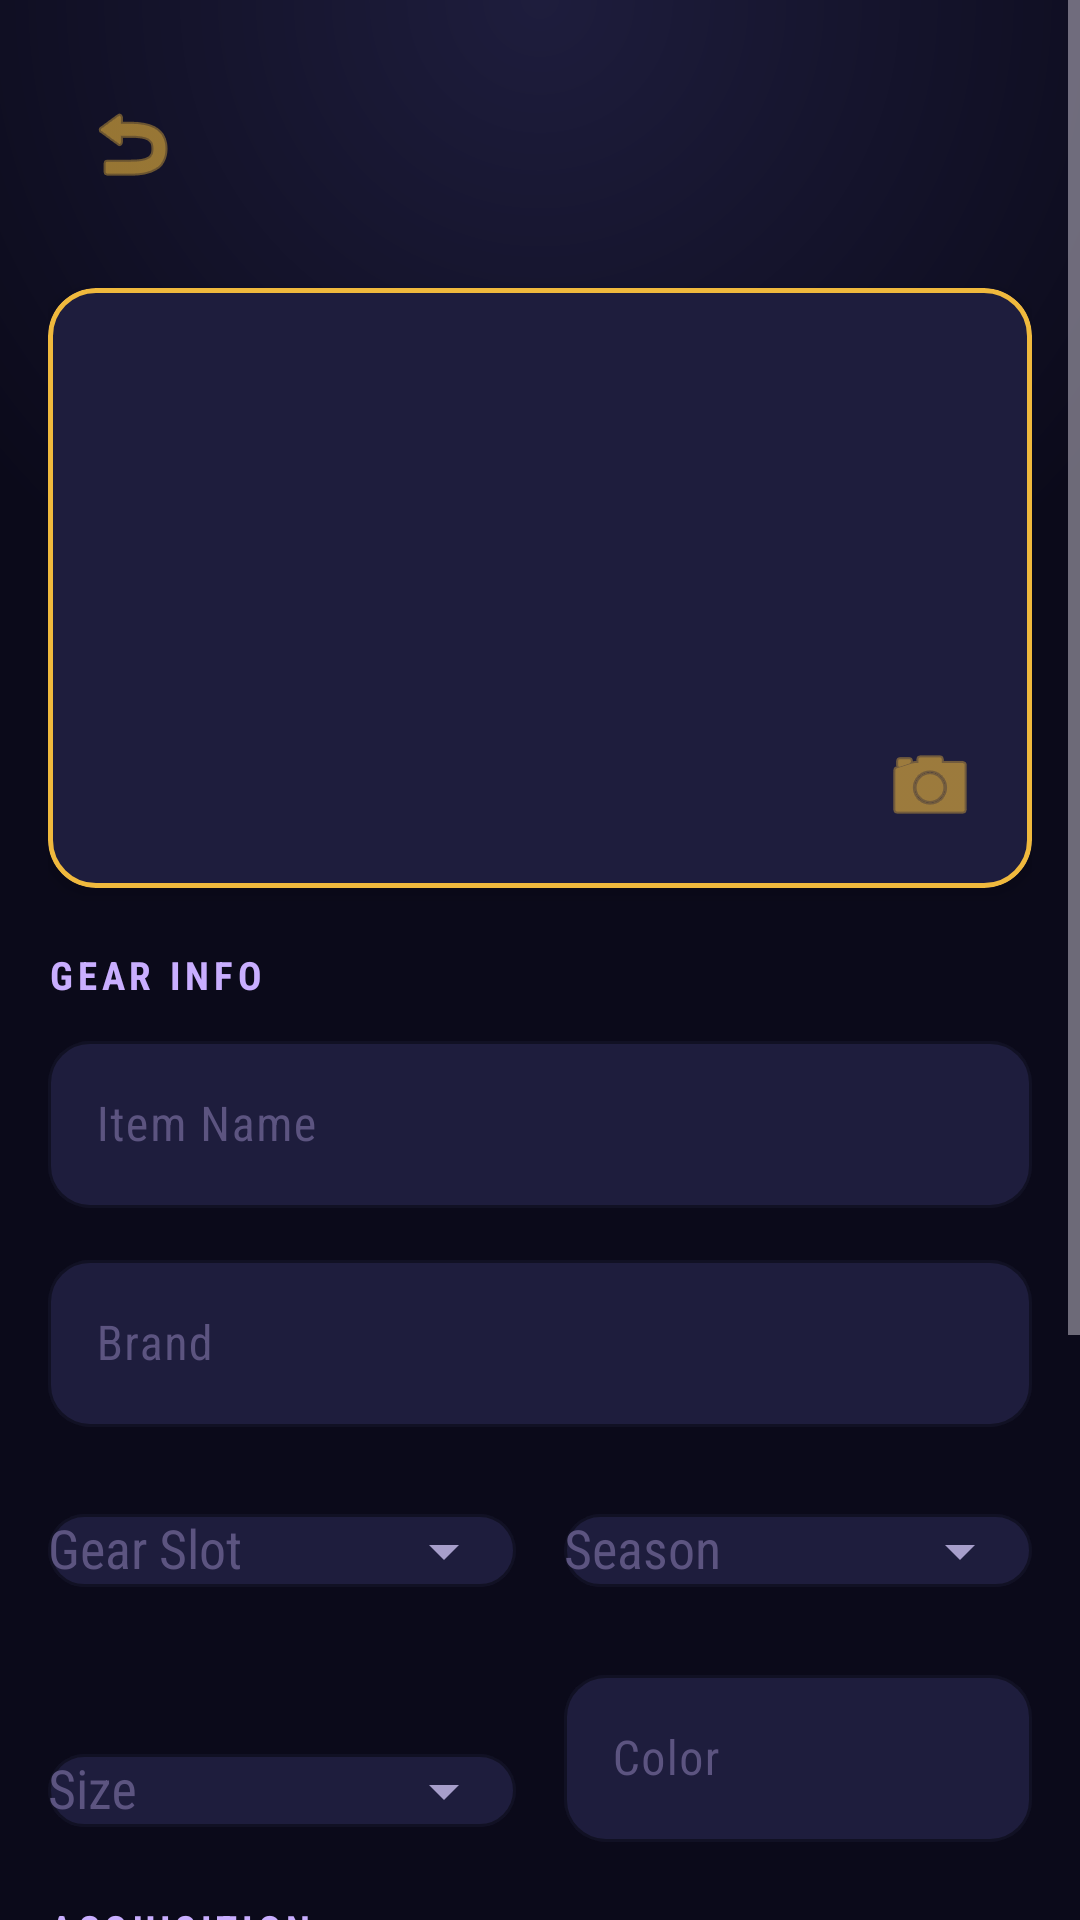

Where icons sit on this 1080px×1920px app screen, as (x1, y1, x2, y2):
Take Photo: (893, 755, 967, 814)
